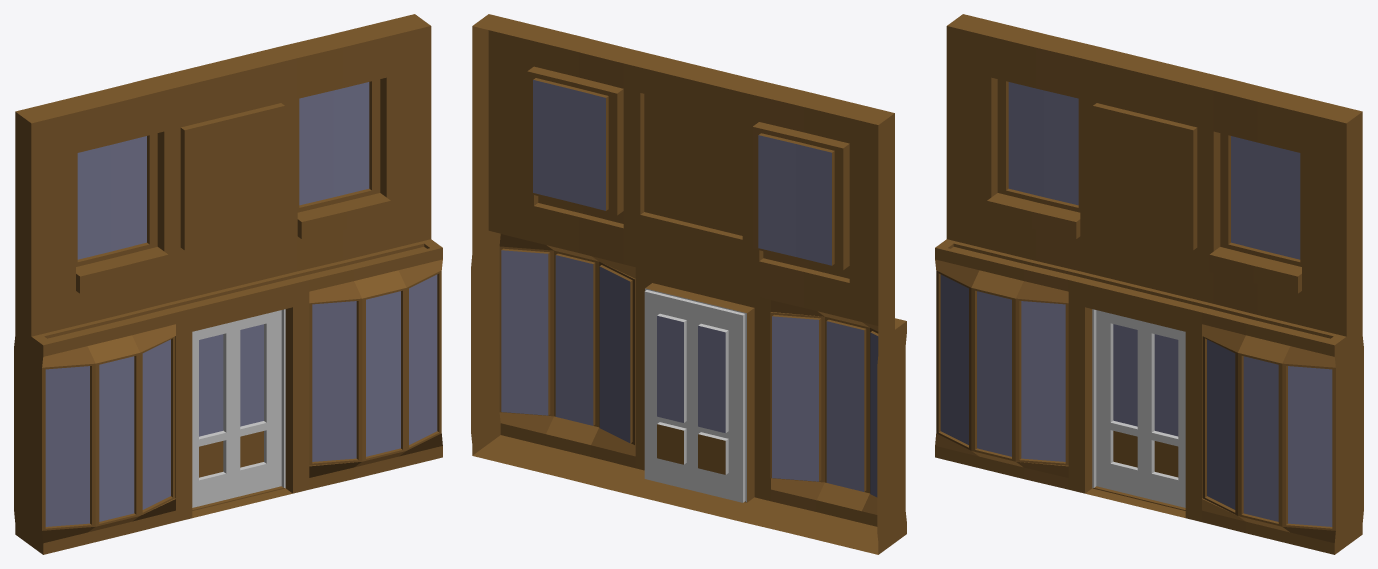
The picture shows the model from 3 angles, left to right: view 1: azimuth 30°, elevation 25°; view 2: azimuth 150°, elevation 25°; view 3: azimuth 330°, elevation 25°; orthographic projection.
Visible parts, largest first — view 1: Plane; view 2: Plane; view 3: Plane.
Boxes of the visible parts, box(x1,y1,x2,y2) form: Plane: box(14, 14, 442, 554); Plane: box(471, 14, 906, 554); Plane: box(935, 14, 1363, 554).
Bounding box in the file's own units: 1195 × 1208 × 193.
